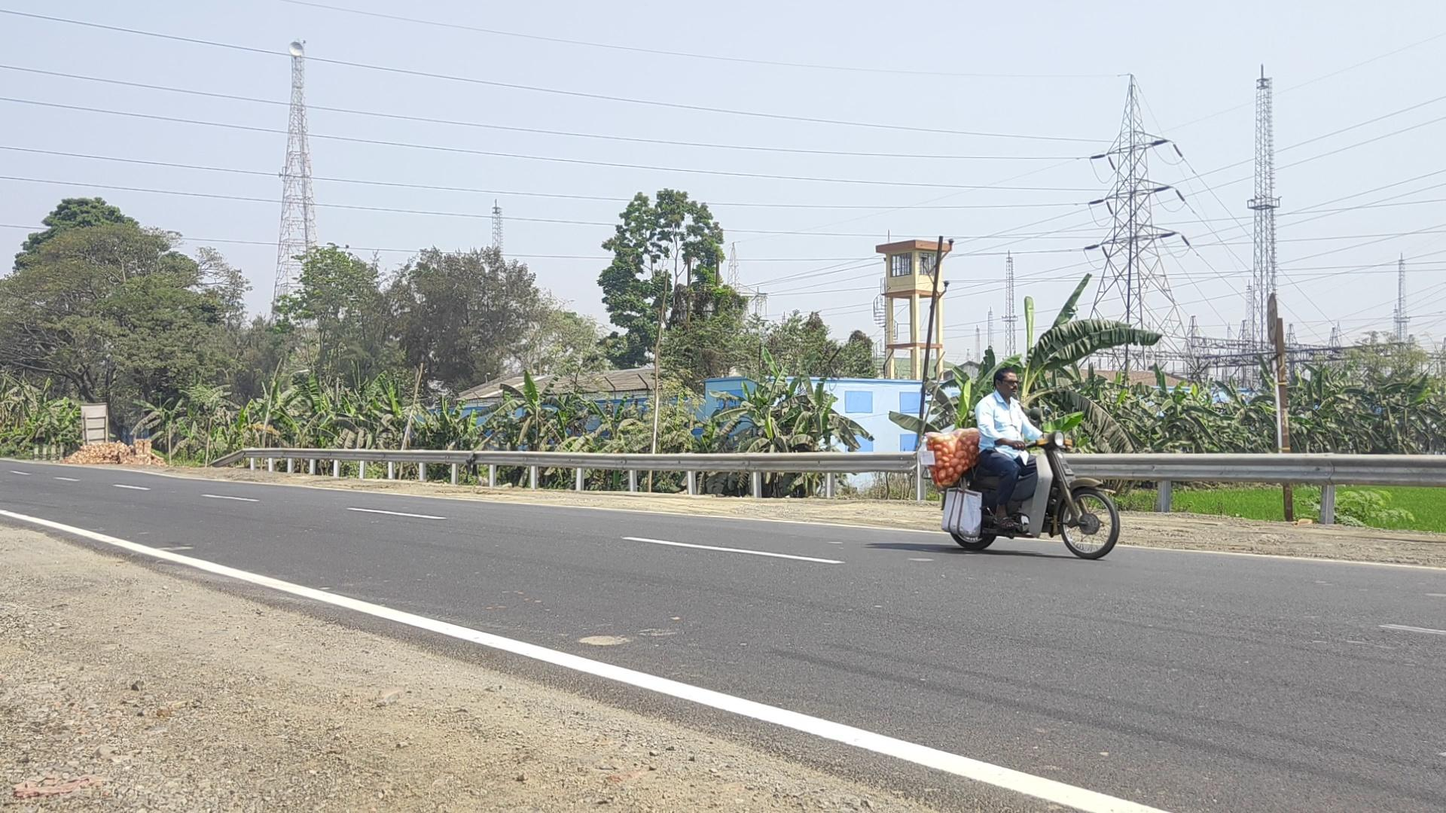bike: (924, 369, 1120, 561)
